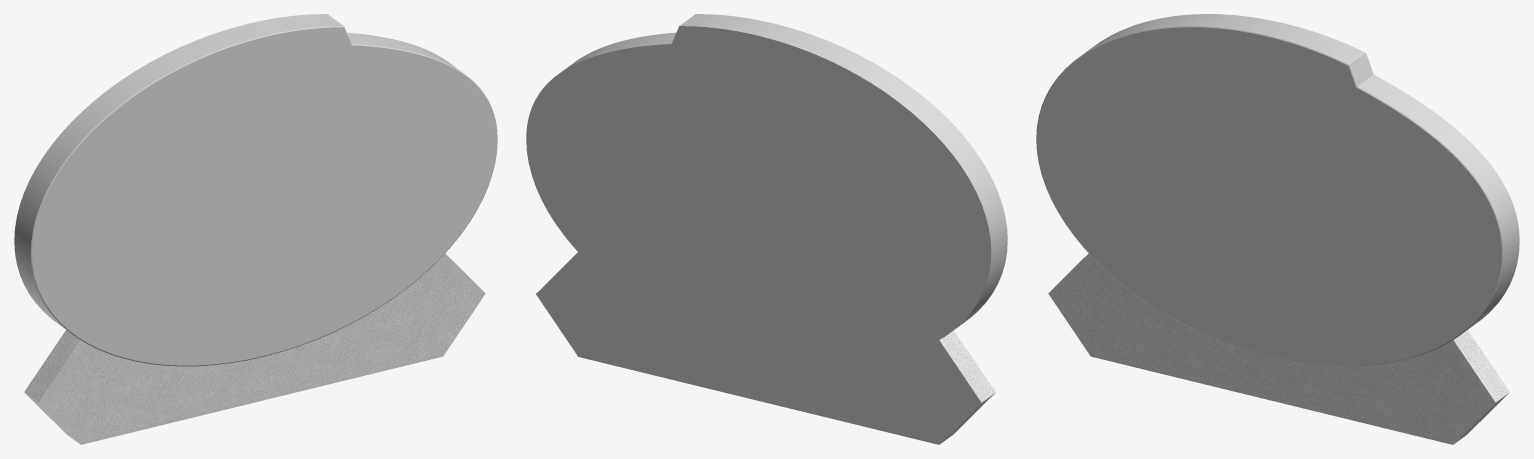
Rendered from cn896a6efda8_tkf.glb.
3 views of the same model, side by side, from view 1: azimuth 30°, elevation 25°; view 2: azimuth 150°, elevation 25°; view 3: azimuth 330°, elevation 25° (orthographic).
Visible parts, largest first — view 1: Pam-g-097, Pam-g-097_2_notexture; view 2: Pam-g-097, Pam-g-097_2_notexture; view 3: Pam-g-097, Pam-g-097_2_notexture.
Boxes of the visible parts, <box> form: Pam-g-097: <box>14,14,497,366</box>; Pam-g-097_2_notexture: <box>24,253,485,444</box>; Pam-g-097: <box>526,14,1007,444</box>; Pam-g-097_2_notexture: <box>939,330,995,443</box>; Pam-g-097: <box>1036,14,1519,366</box>; Pam-g-097_2_notexture: <box>1048,253,1509,444</box>.
Bounding box in the file's own units: 0.8 × 0.6 × 0.05.
Materials: 1 (1 with a texture image).
